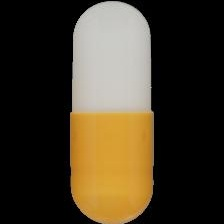0006-0464: (0, 0, 224, 224)
